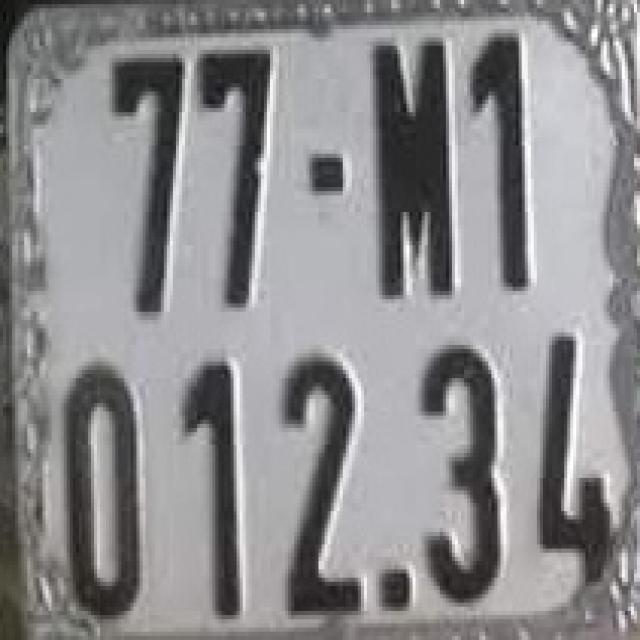0: (57, 358, 152, 620)
1: (176, 353, 258, 619), (467, 25, 546, 295)
2: (276, 349, 367, 619)
3: (412, 336, 510, 606)
4: (531, 328, 619, 590)
7: (106, 46, 191, 316), (197, 45, 279, 308)
M: (367, 25, 464, 316)
